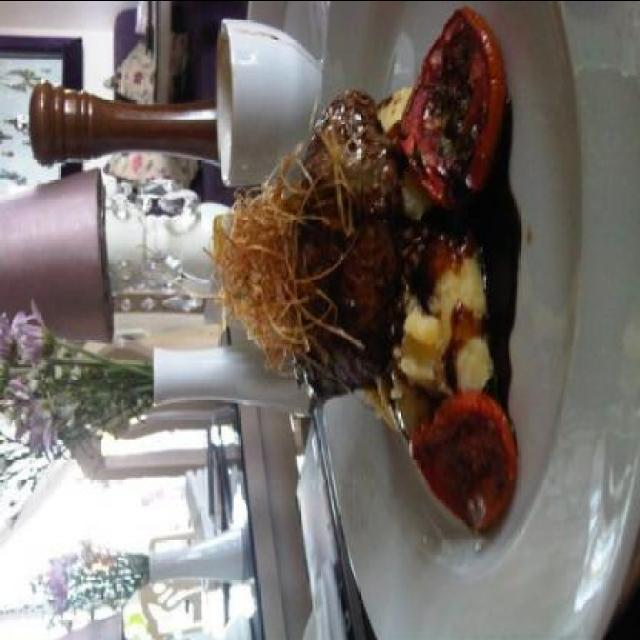Steak: (254, 107, 396, 390)
